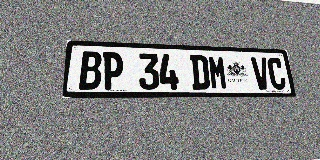3: (139, 53, 159, 90)
4: (159, 54, 179, 90)
B: (79, 51, 102, 90)
C: (266, 57, 287, 90)
D: (190, 55, 210, 90)
M: (208, 55, 228, 90)
P: (102, 52, 123, 90)
V: (251, 57, 271, 90)
